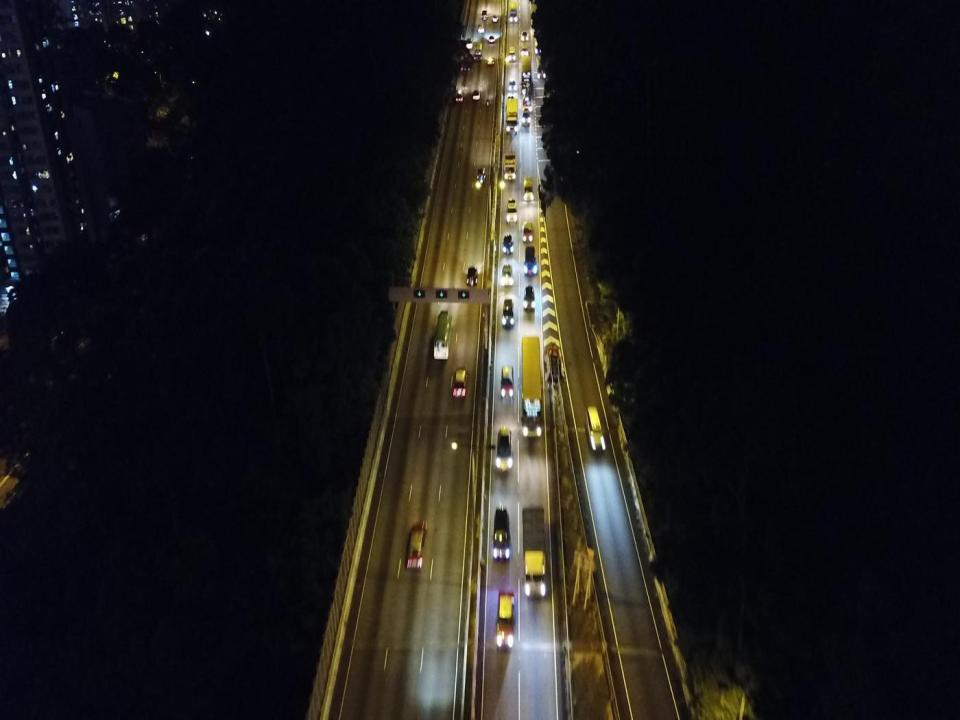bus: (521, 336, 543, 437), (433, 310, 452, 360)
car: (496, 588, 515, 649), (405, 524, 427, 569), (492, 507, 510, 561), (585, 404, 605, 450), (495, 428, 513, 472), (452, 364, 468, 397), (500, 364, 514, 398), (522, 245, 537, 276), (501, 298, 515, 330), (522, 175, 535, 201), (523, 284, 535, 312), (506, 196, 518, 224), (500, 263, 513, 285), (466, 265, 478, 287), (522, 220, 534, 242), (503, 233, 514, 256), (473, 40, 483, 61), (460, 57, 471, 72), (454, 89, 464, 103), (476, 167, 484, 184), (507, 78, 517, 91), (465, 36, 473, 50), (472, 88, 481, 100), (487, 54, 494, 66), (481, 8, 488, 20), (477, 23, 484, 34), (488, 34, 495, 44), (492, 14, 498, 23)
truck: (522, 506, 547, 599), (506, 98, 518, 134), (504, 151, 516, 182), (510, 0, 518, 22), (508, 46, 516, 63)
